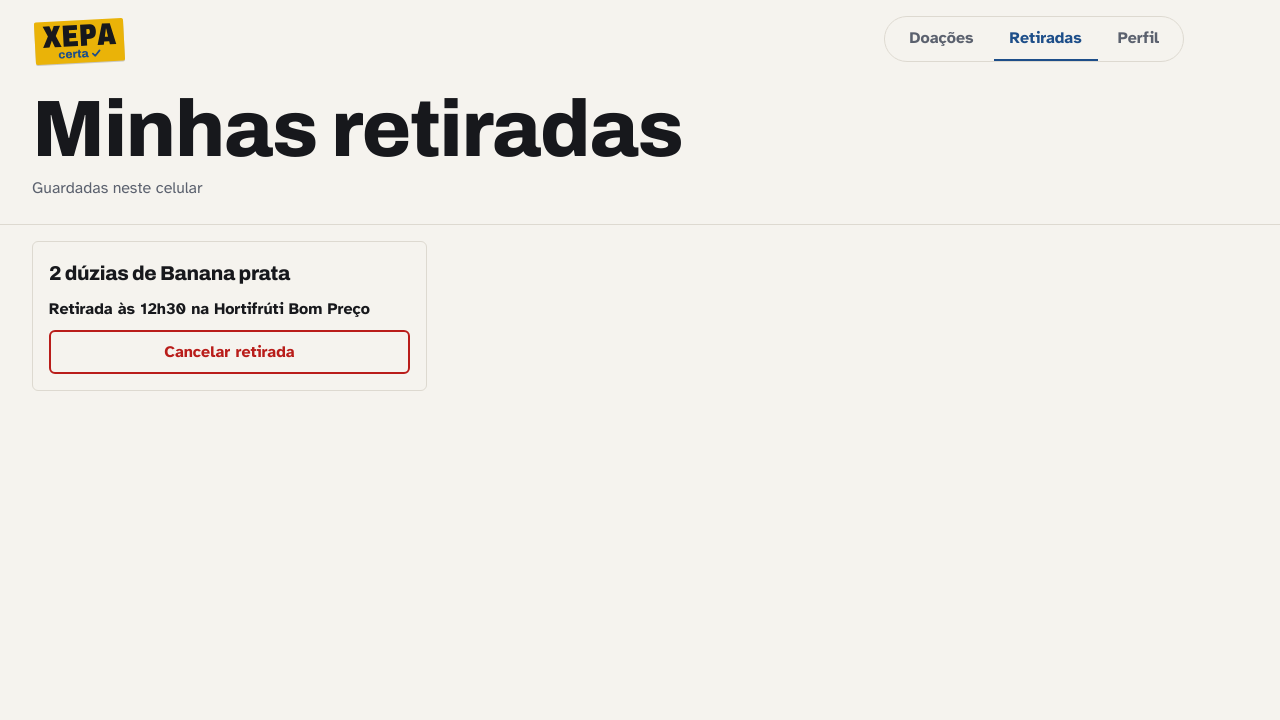
Test: Minhas retiradas › mostra o horário e cancela com confirmação
Expected: the text "Retirada às 12h30 na Hortifrúti Bom Preço" is shown, x1=49 y1=298 x2=410 y2=322
Click the button "Cancelar retirada".
click(229, 352)  # box x1=49 y1=330 x2=410 y2=374
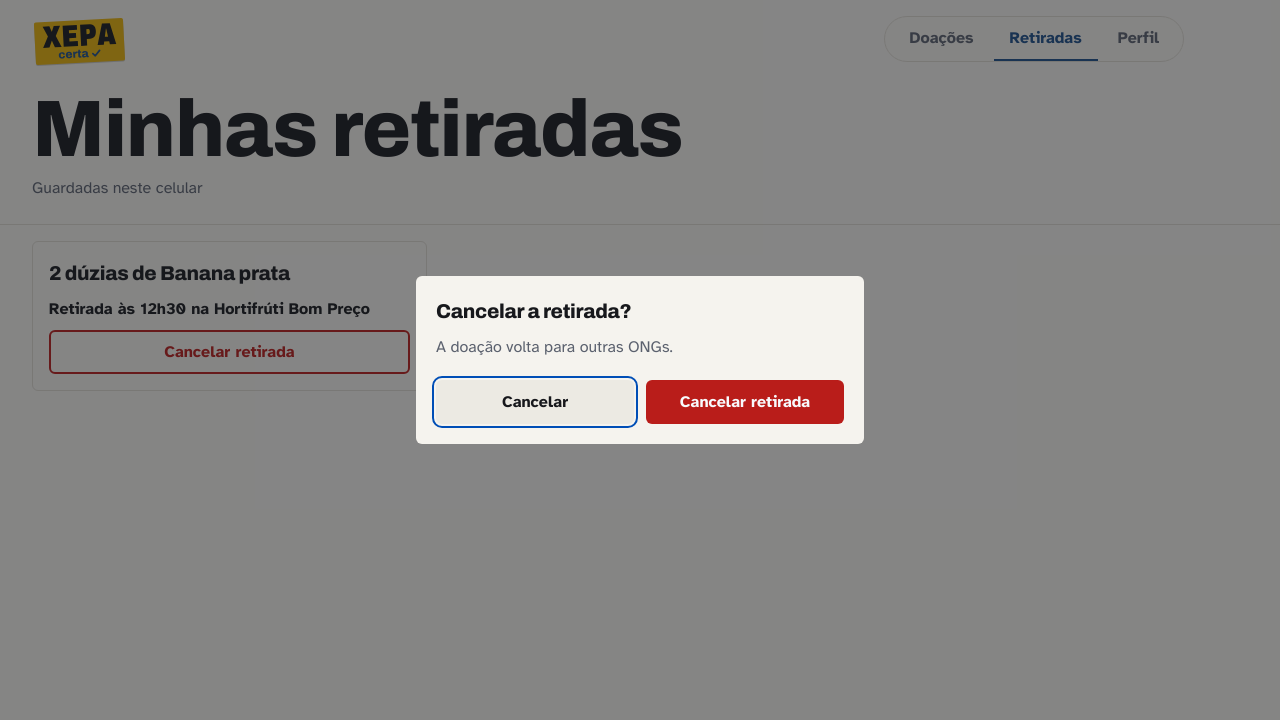
Click the button "Cancelar retirada".
click(745, 402)  # box x1=646 y1=380 x2=844 y2=424
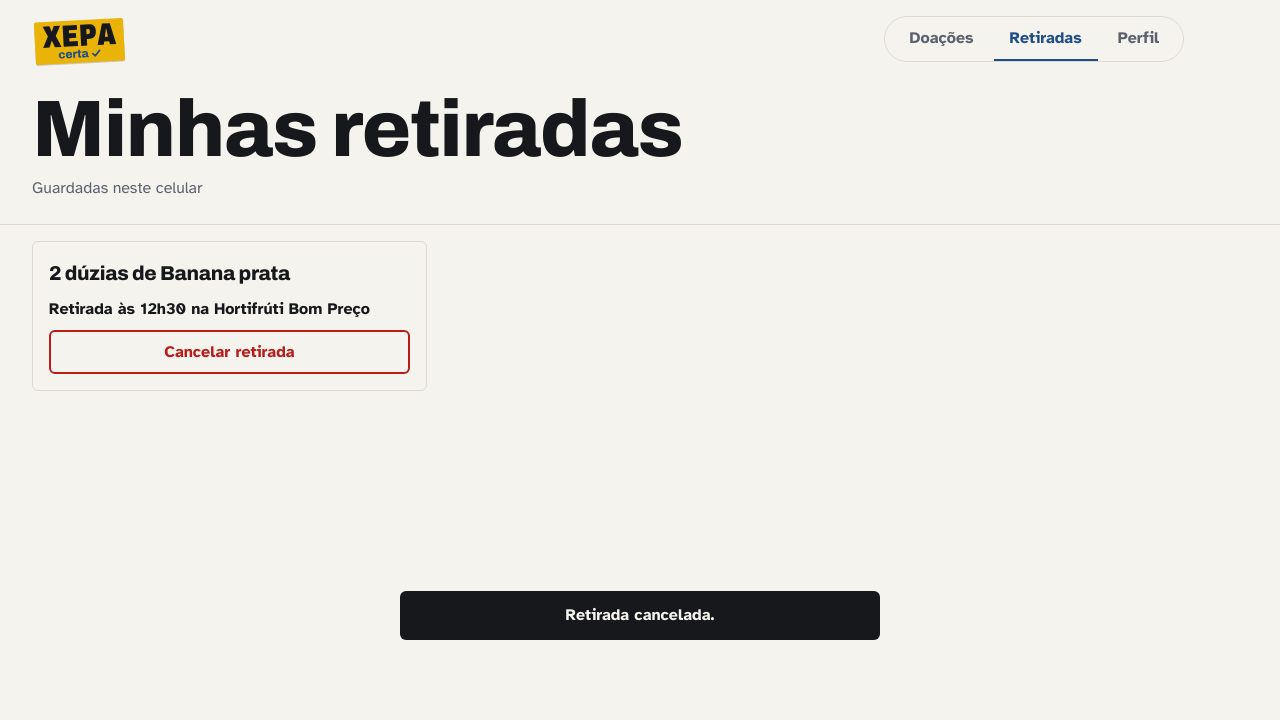
Expected: the text "Retirada cancelada." is shown, x1=400 y1=591 x2=880 y2=640
